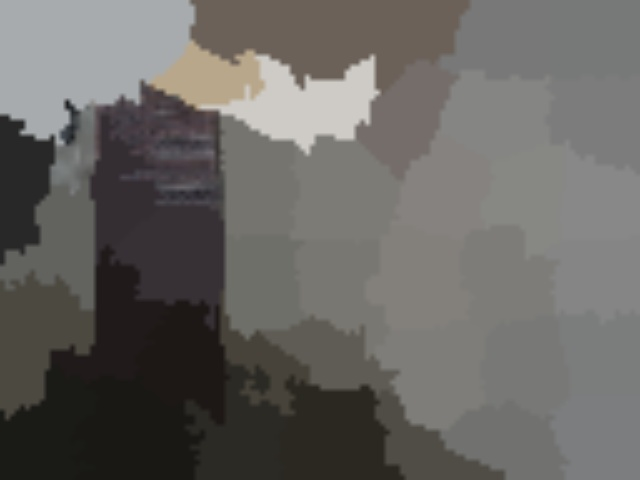two: (94, 18, 136, 53)
